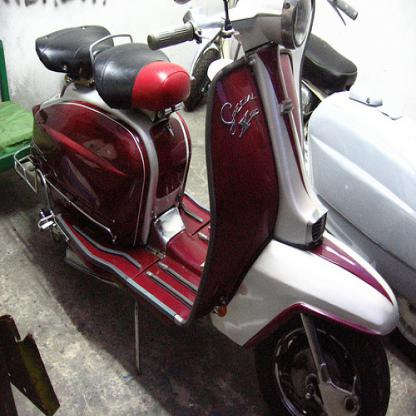motorbike: (13, 0, 401, 415)
